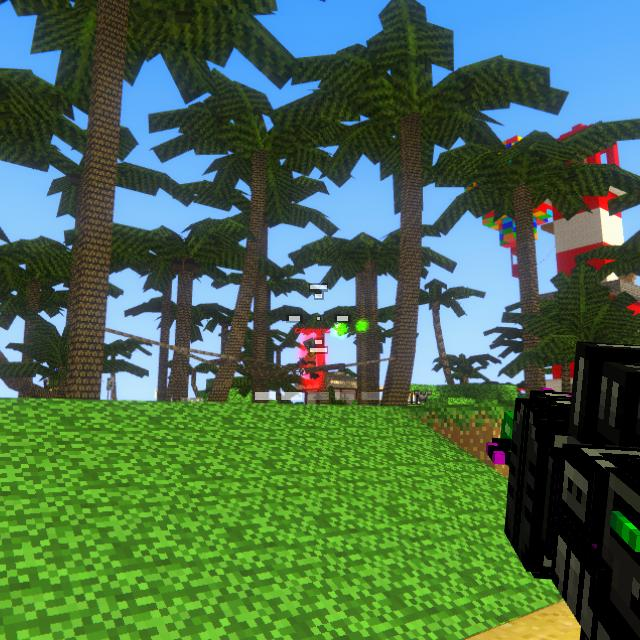Enemy: (300, 338, 320, 380)
